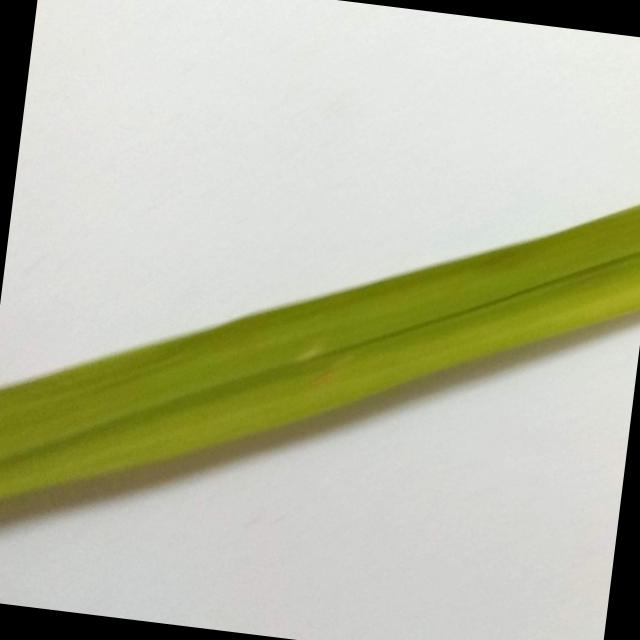Rice_Healthy: (0, 205, 640, 499)
